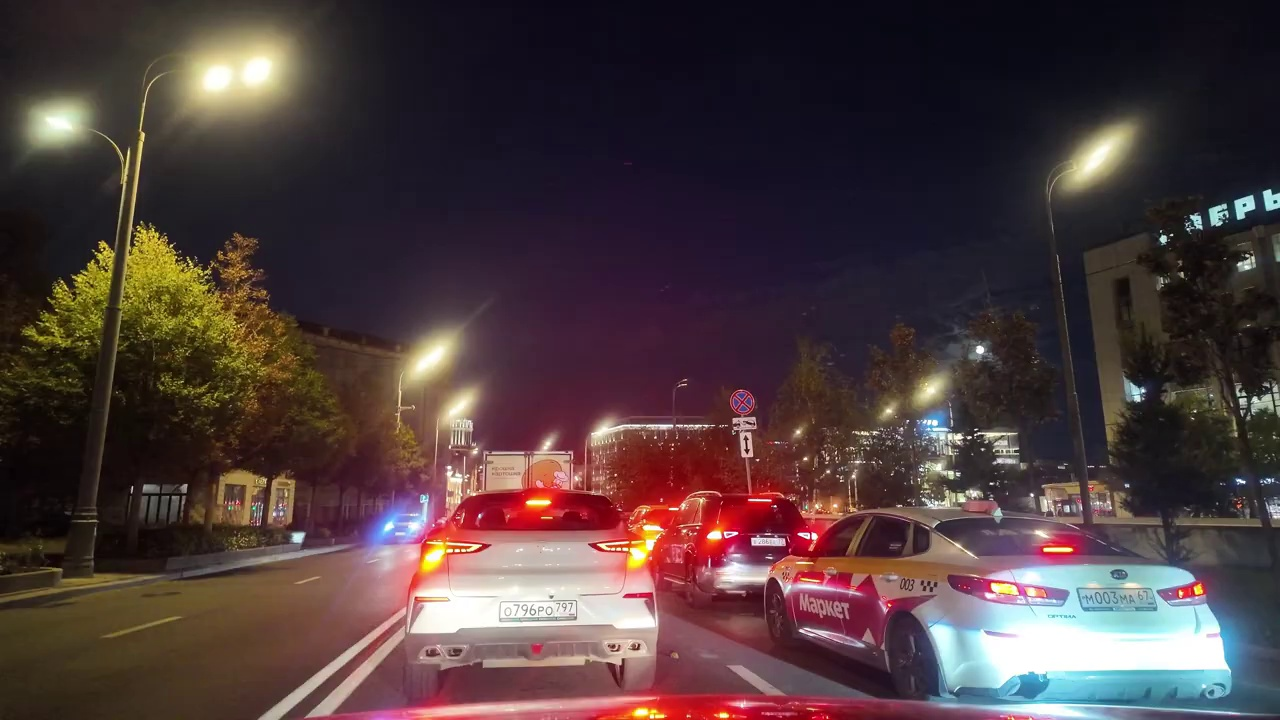acesa: (188, 48, 275, 106), (1065, 127, 1132, 189), (402, 332, 459, 385), (29, 103, 86, 151)
